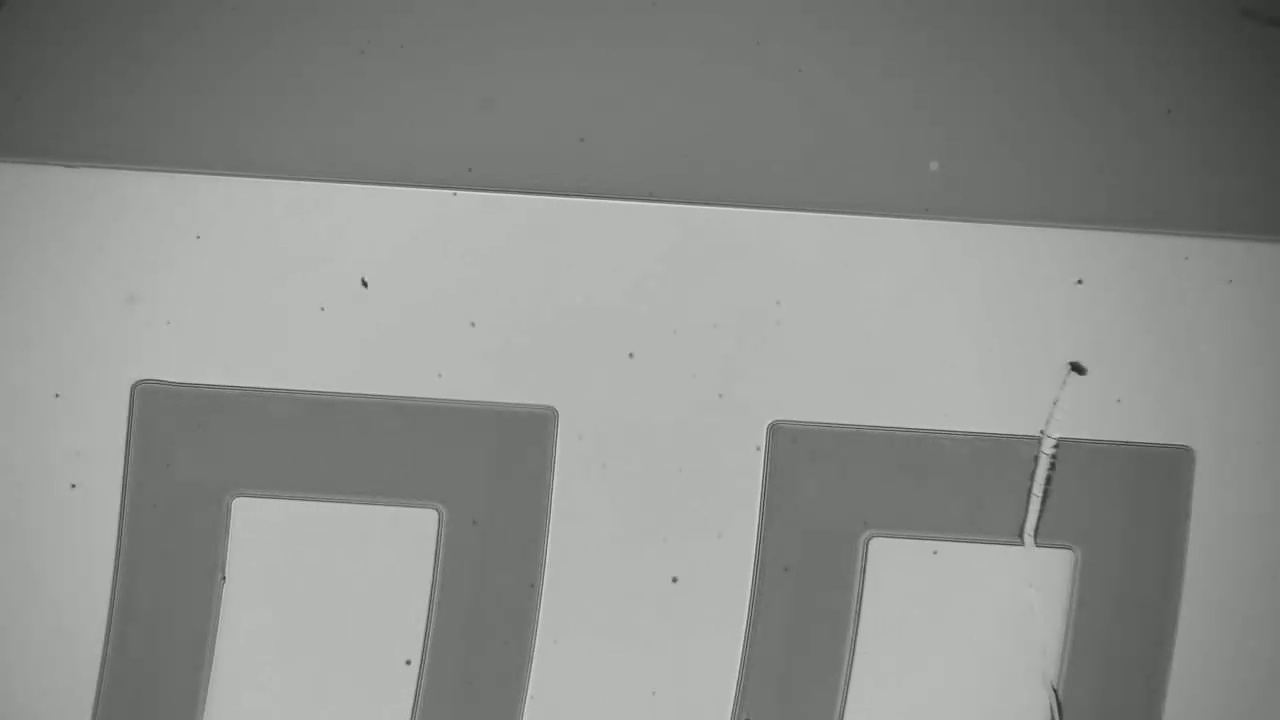Short_circuit: (991, 404, 1072, 570)
